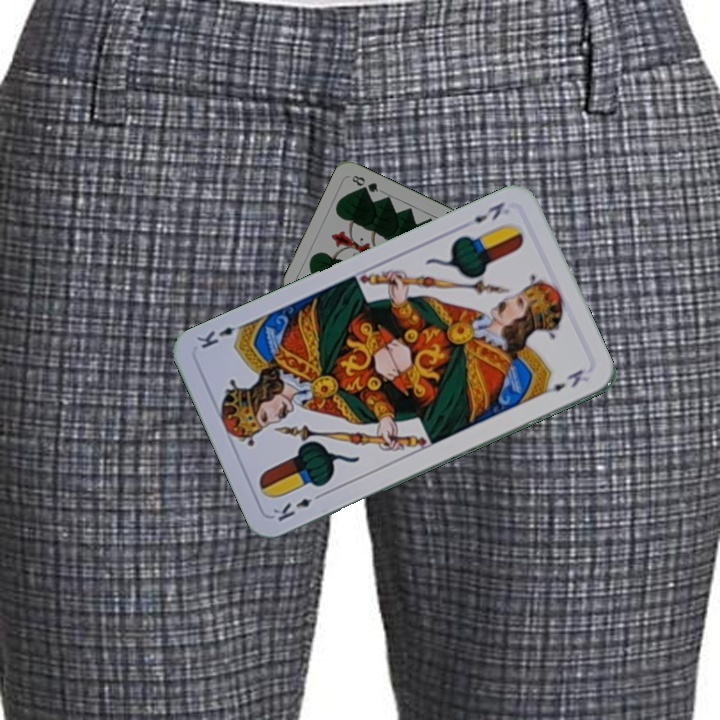EK: (269, 488, 327, 525), (469, 198, 507, 226)
